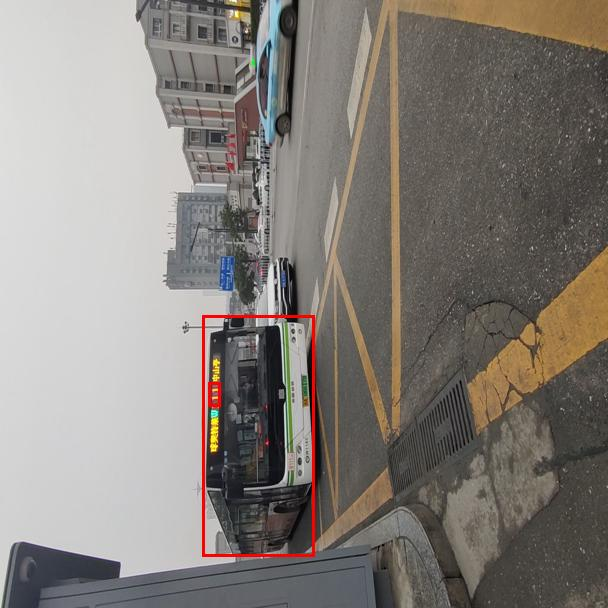bus: (202, 315, 314, 556)
screen: (208, 382, 220, 406)
